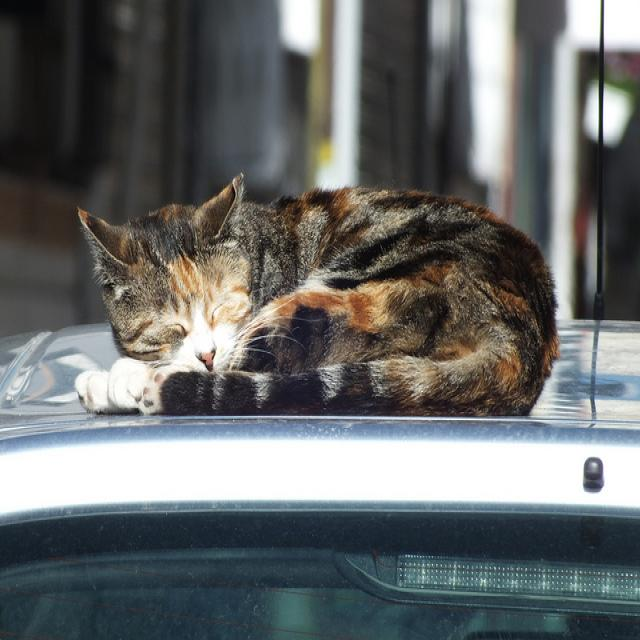Vehicle: (0, 318, 640, 639)
